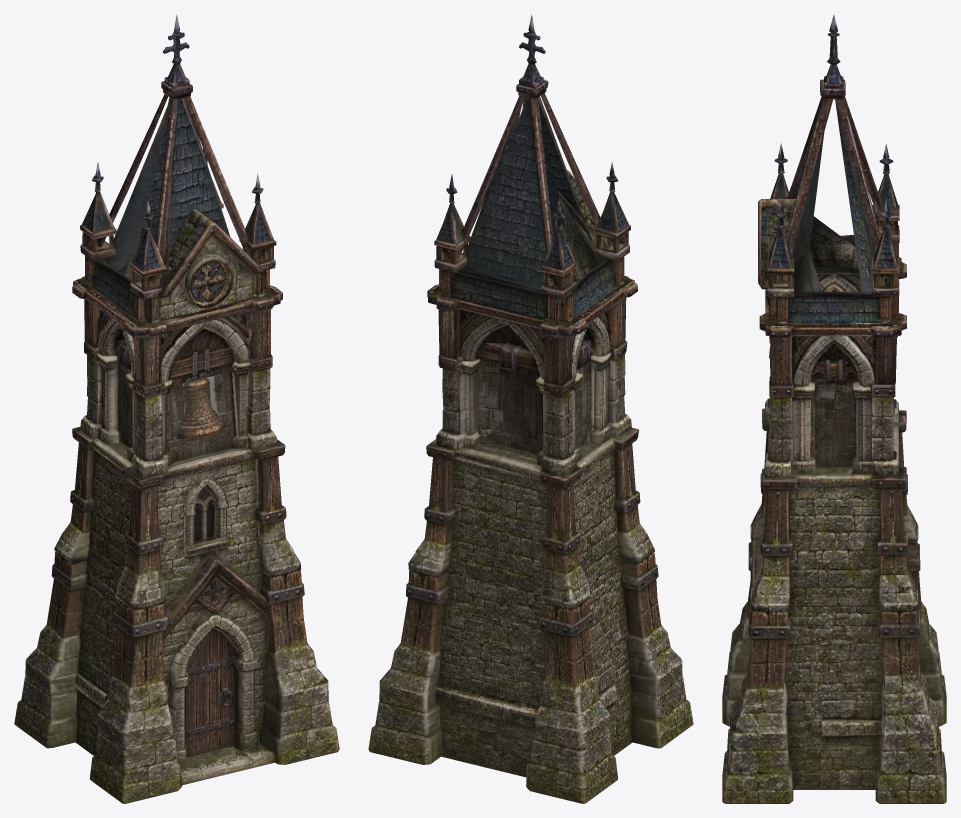
The model's file is landmark_belltower.glb.
3 renders of one model, left to right at view 1: azimuth 30°, elevation 25°; view 2: azimuth 150°, elevation 25°; view 3: azimuth 270°, elevation 25°, orthographic.
Parts seen in each view (by area): view 1: tripo_node_2bcc8a1f-3c86-41dc-9a9d-49111541b576; view 2: tripo_node_2bcc8a1f-3c86-41dc-9a9d-49111541b576; view 3: tripo_node_2bcc8a1f-3c86-41dc-9a9d-49111541b576.
Part boxes in pixels (x1=…): tripo_node_2bcc8a1f-3c86-41dc-9a9d-49111541b576: x1=14, y1=14, x2=339, y2=803; tripo_node_2bcc8a1f-3c86-41dc-9a9d-49111541b576: x1=368, y1=14, x2=693, y2=803; tripo_node_2bcc8a1f-3c86-41dc-9a9d-49111541b576: x1=722, y1=14, x2=946, y2=803.
Size of the model in its own units: 0.3149 by 0.9995 by 0.2759.
1 material, 1 textured.
